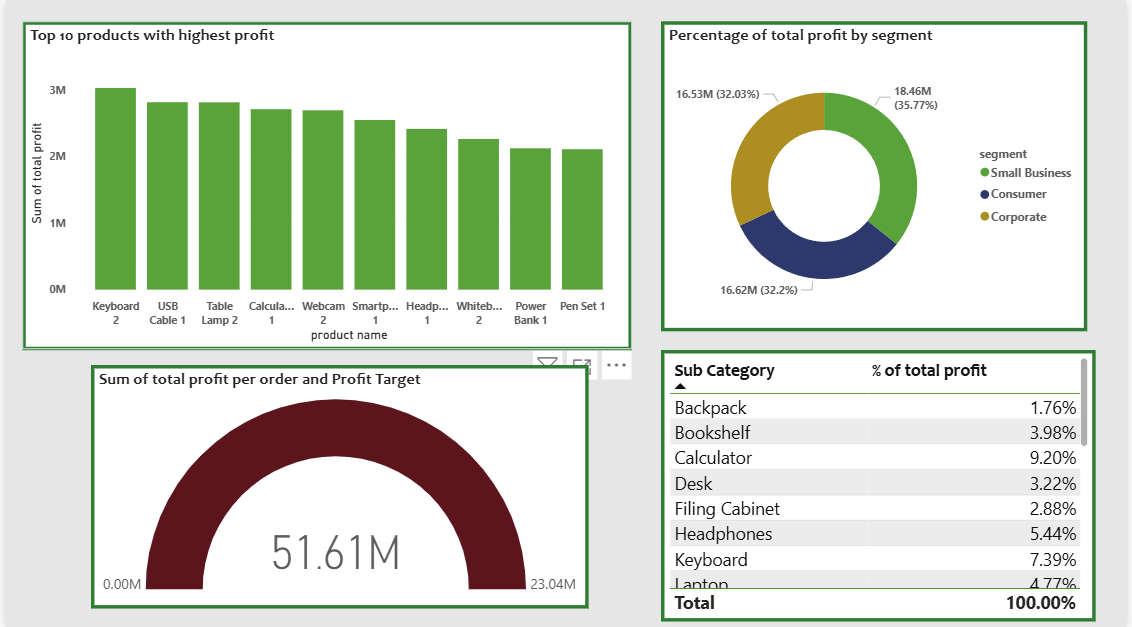

This screenshot's page, from the dashboard's own definition file:
{"tool":"powerbi","page":{"name":"Page 2","canvas":[1280,720],"ordinal":1},"visuals":[{"type":"clusteredColumnChart","title":"Top 10 products with highest profit","fields":{"Category":["products.product_name"],"Y":["Sum(order_details.total profit per order)"]},"box":[18.6,24.3,697.1,375.7],"z":0},{"type":"tableEx","fields":{"Values":["products.sub_category","Sum(order_details.total profit per order)"]},"box":[748.6,400,497.1,310],"z":1000},{"type":"donutChart","title":"Percentage of total profit by segment","fields":{"Category":["customers.segment"],"Y":["Sum(order_details.total profit per order)"]},"box":[748.6,24.3,487.1,354.3],"z":2000},{"type":"gauge","fields":{"Y":["Sum(order_details.total profit per order)"],"MaxValue":["order_details.Profit Target"]},"box":[97.1,417.1,568.6,278.6],"z":3000}]}

Visuals, with their boxes in screenshot pixels (x1, y1, x2, y2), scaled from the page's 1280x720 canvas onto the 1132x627 screenshot:
"Top 10 products with highest profit" clusteredColumnChart: <bbox>16, 21, 633, 348</bbox>
tableEx - products.sub_category x Sum(order_details.total profit per order): <bbox>662, 348, 1102, 618</bbox>
"Percentage of total profit by segment" donutChart: <bbox>662, 21, 1093, 330</bbox>
gauge - Sum(order_details.total profit per order) x order_details.Profit Target: <bbox>86, 363, 589, 606</bbox>
